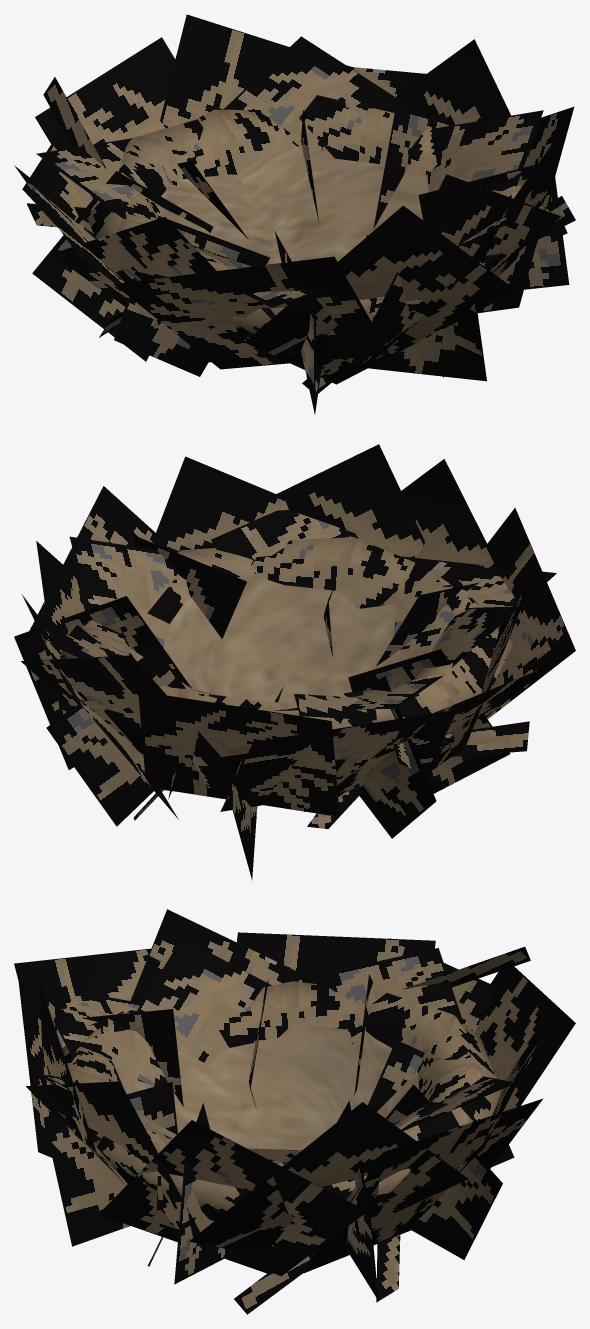
File: ground_un_dlc2_s_bird_nest01.gltf
The picture shows the model from 3 angles, top to bottom: view 1: azimuth 30°, elevation 25°; view 2: azimuth 150°, elevation 25°; view 3: azimuth 270°, elevation 25°; orthographic projection. The views are drawn at different scales.
Parts seen in each view (by area): view 1: um_ground_un_dlc2_s_bird_nest01_model_lod0Shape:ground_un_dl, um_ground_un_dlc2_s_bird_nest01_model_lod1Shape:ground_un_dl; view 2: um_ground_un_dlc2_s_bird_nest01_model_lod0Shape:ground_un_dl, um_ground_un_dlc2_s_bird_nest01_model_lod1Shape:ground_un_dl; view 3: um_ground_un_dlc2_s_bird_nest01_model_lod0Shape:ground_un_dl, um_ground_un_dlc2_s_bird_nest01_model_lod1Shape:ground_un_dl.
Part boxes in pixels (bbox=[...]): um_ground_un_dlc2_s_bird_nest01_model_lod0Shape:ground_un_dl: bbox=[14, 14, 575, 414]; um_ground_un_dlc2_s_bird_nest01_model_lod1Shape:ground_un_dl: bbox=[155, 142, 428, 264]; um_ground_un_dlc2_s_bird_nest01_model_lod0Shape:ground_un_dl: bbox=[14, 444, 575, 880]; um_ground_un_dlc2_s_bird_nest01_model_lod1Shape:ground_un_dl: bbox=[130, 573, 435, 703]; um_ground_un_dlc2_s_bird_nest01_model_lod0Shape:ground_un_dl: bbox=[14, 909, 575, 1314]; um_ground_un_dlc2_s_bird_nest01_model_lod1Shape:ground_un_dl: bbox=[120, 1024, 419, 1150].
Size of what is drawn, in the model's own units: 2.6 by 1.46 by 2.61.
Materials: 4 (3 with a texture image).
